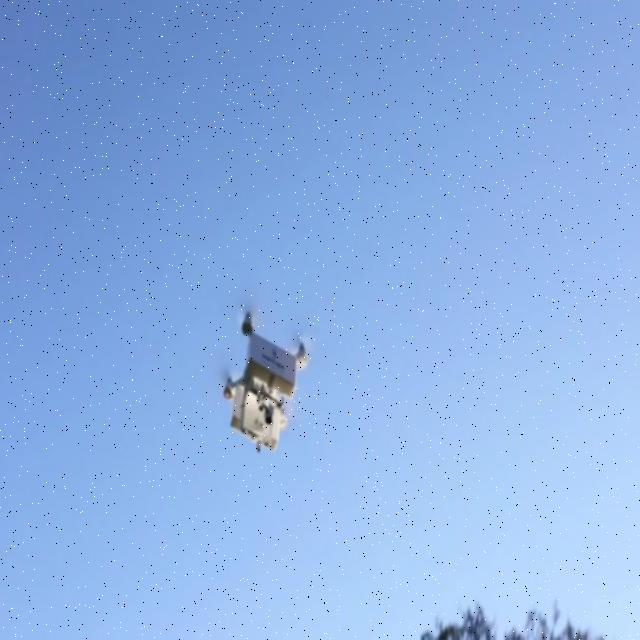UAV: (224, 311, 308, 453)
